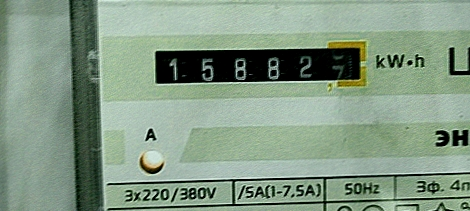1: (166, 55, 180, 83)
2: (297, 53, 313, 81)
5: (198, 56, 216, 83)
7: (329, 63, 345, 80)
8: (231, 55, 247, 83), (265, 54, 280, 82)
screen: (141, 34, 376, 97)
